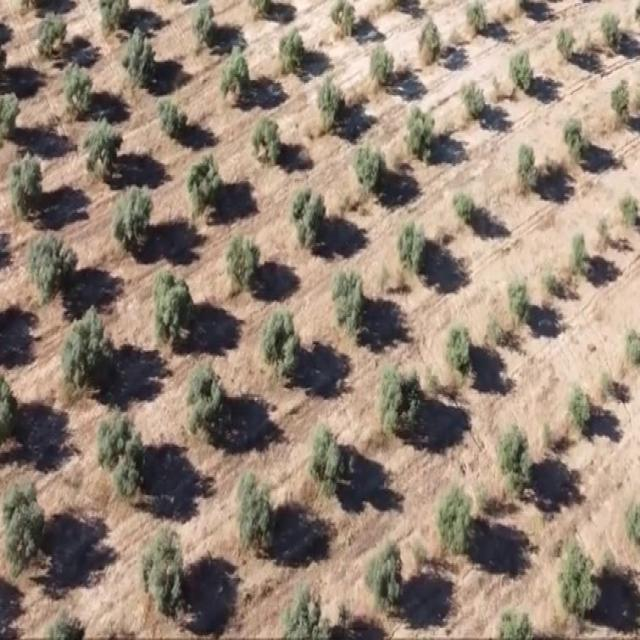trees: (56, 304, 119, 400), (552, 532, 608, 640), (91, 401, 147, 505), (137, 516, 188, 626), (183, 349, 235, 447), (0, 477, 48, 581), (147, 258, 195, 359), (23, 225, 78, 308), (492, 413, 539, 506), (307, 414, 356, 501), (230, 470, 276, 562), (372, 360, 423, 441), (434, 476, 477, 572), (361, 535, 405, 627), (110, 179, 159, 261), (184, 148, 228, 229), (4, 147, 49, 223), (80, 114, 126, 188), (260, 306, 302, 386), (285, 184, 330, 258), (330, 262, 371, 340), (277, 579, 331, 638), (223, 228, 266, 300), (58, 57, 100, 128), (120, 27, 160, 92), (352, 136, 391, 202), (314, 73, 352, 140), (248, 114, 290, 174), (400, 105, 441, 166), (439, 319, 475, 388), (215, 49, 254, 112), (394, 219, 432, 283), (274, 23, 312, 80), (448, 187, 489, 237), (33, 12, 69, 68), (154, 94, 190, 149), (506, 269, 536, 335), (506, 46, 540, 102), (566, 378, 596, 441), (365, 41, 400, 95), (327, 0, 364, 50), (559, 114, 592, 170), (415, 15, 448, 70), (0, 355, 19, 450), (190, 0, 222, 53), (596, 8, 628, 59), (513, 140, 541, 198), (0, 85, 24, 149), (456, 77, 486, 126), (97, 0, 135, 38), (462, 0, 494, 44), (570, 227, 594, 281), (610, 78, 635, 129), (552, 24, 580, 66), (618, 188, 640, 234)
